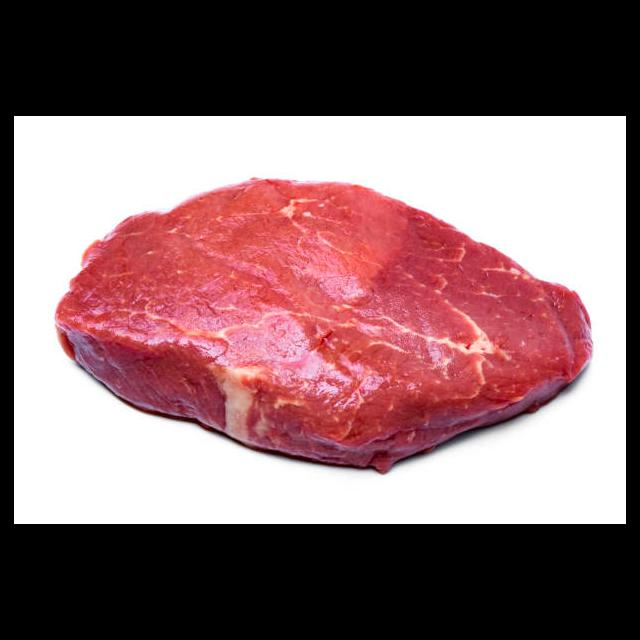beef: (53, 176, 595, 474)
